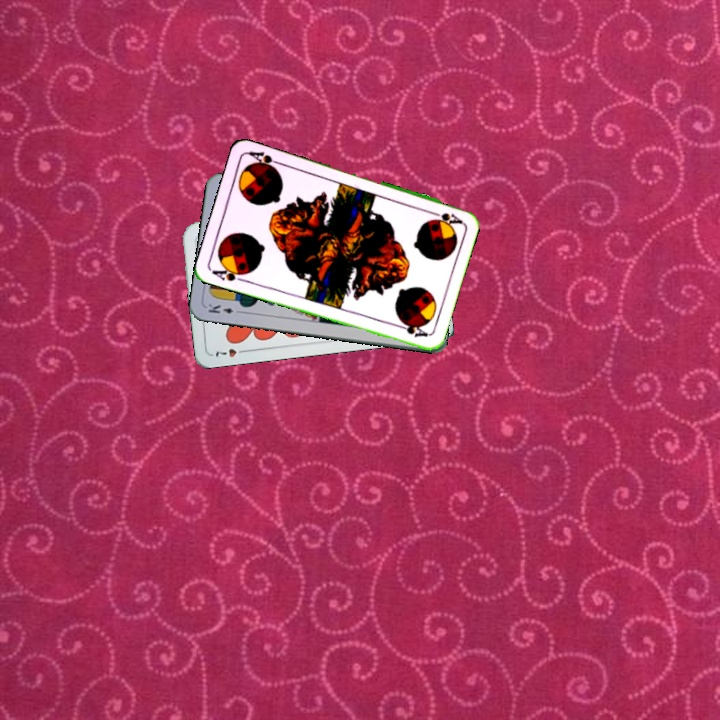EK: (204, 300, 244, 316)
H7: (211, 344, 250, 360)
SA: (208, 262, 250, 285), (424, 206, 464, 227)
